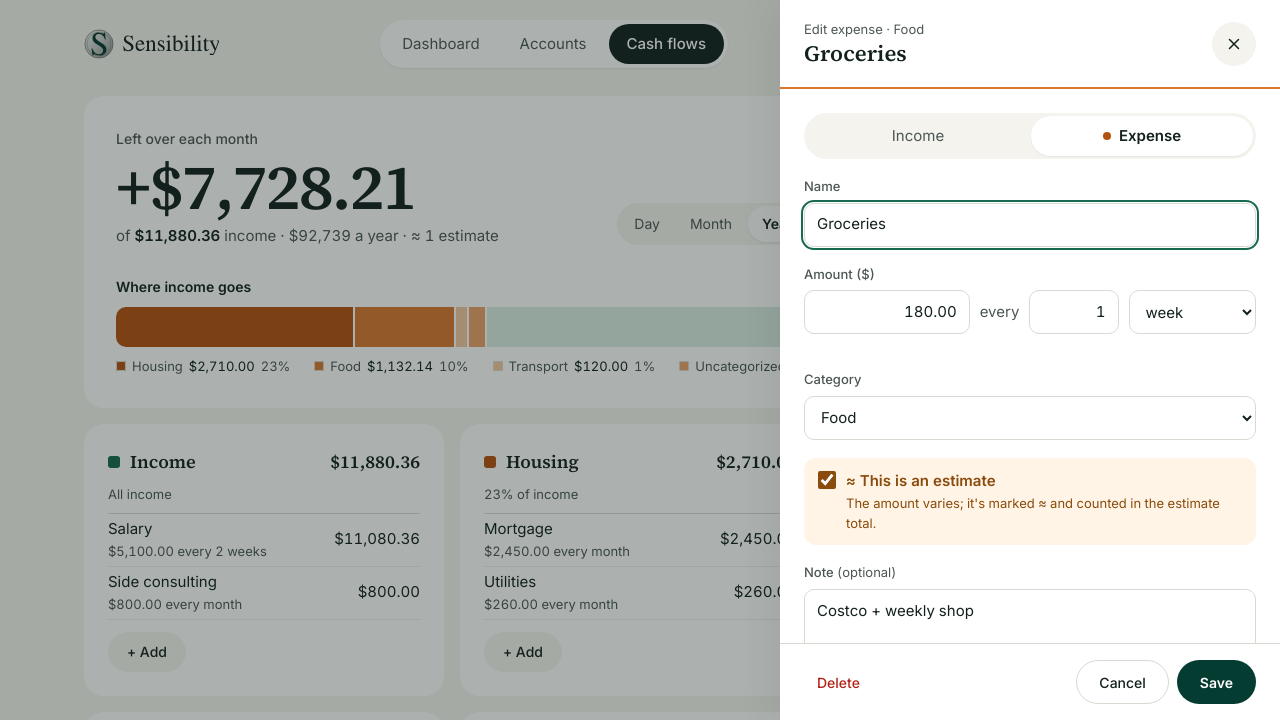
Test: the cash flow drawer, editing › shows the server's refusal in the drawer, keeping the input
The width and height of the screenshot is (1280, 720).
Expected: the dialog "Groceries" is shown, [780, 0, 1279, 719]
Replace the text in the field labelled "Name" with "Restaurants": (1030, 224) [804, 202, 1256, 246]
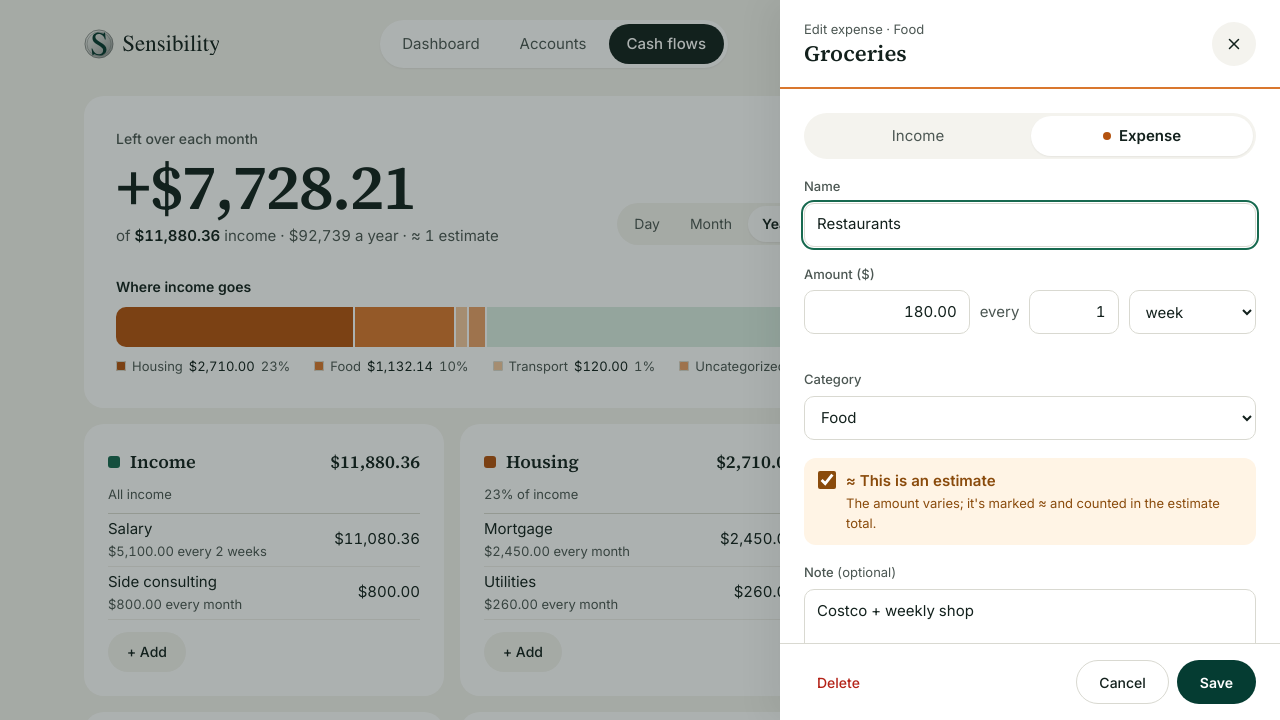
Select "Uncategorized" in the dropdown labelled "Category": (1030, 418) [804, 396, 1256, 440]
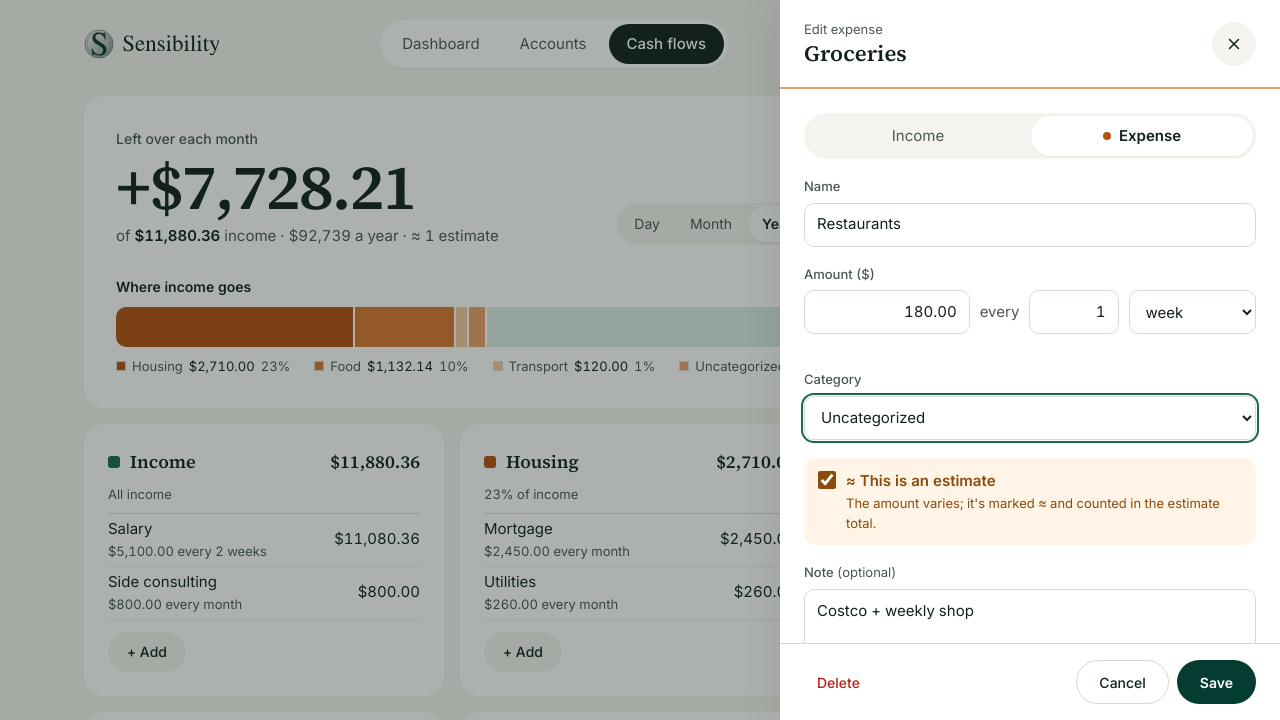
Click the button "Save": (1216, 682) [1177, 660, 1256, 704]
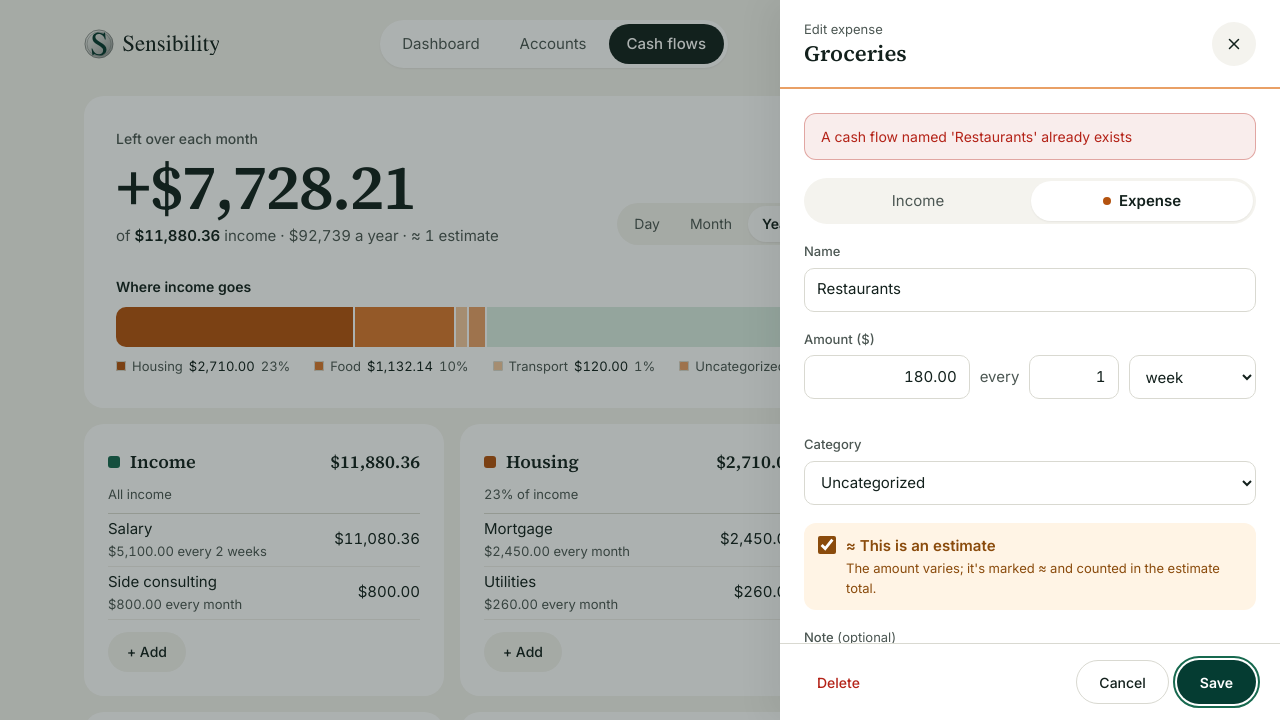
Expected: the text "Edit expense" is shown, [804, 21, 883, 37]
Result: the message reads "A cash flow named 'Restaurants' already exists" at [821, 128, 1132, 145]
